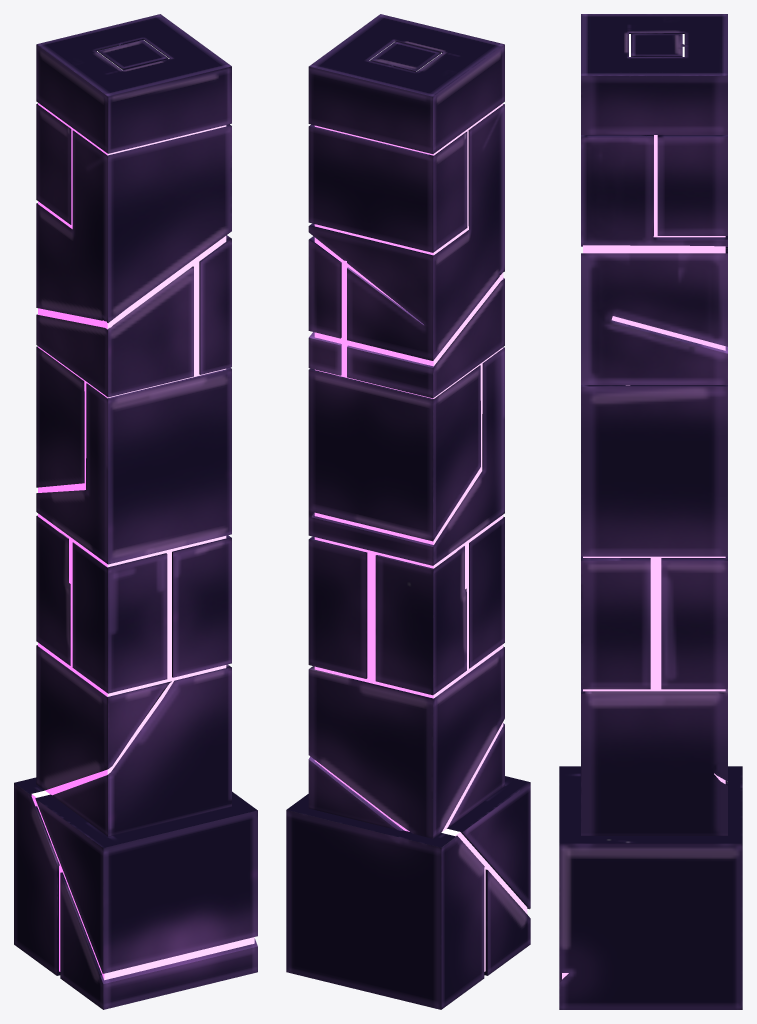
File: CyberPillar 1.glb
3 renders of one model, left to right at view 1: azimuth 30°, elevation 25°; view 2: azimuth 150°, elevation 25°; view 3: azimuth 270°, elevation 25°, orthographic. The views are drawn at different scales.
Visible parts, largest first — view 1: polySurface6, light4, pCube28; view 2: polySurface6, light4, pCube28; view 3: polySurface6, light4.
Part boxes in pixels (bbox=[...]): polySurface6: bbox=[14, 14, 257, 1009]; light4: bbox=[38, 40, 226, 795]; pCube28: bbox=[31, 790, 254, 980]; polySurface6: bbox=[286, 14, 530, 1009]; light4: bbox=[314, 42, 503, 831]; pCube28: bbox=[441, 828, 527, 971]; polySurface6: bbox=[559, 14, 742, 1009]; light4: bbox=[583, 34, 725, 783].
Bounding box in the file's own units: 1.26 × 7.01 × 1.26.
2 materials, 1 textured.
